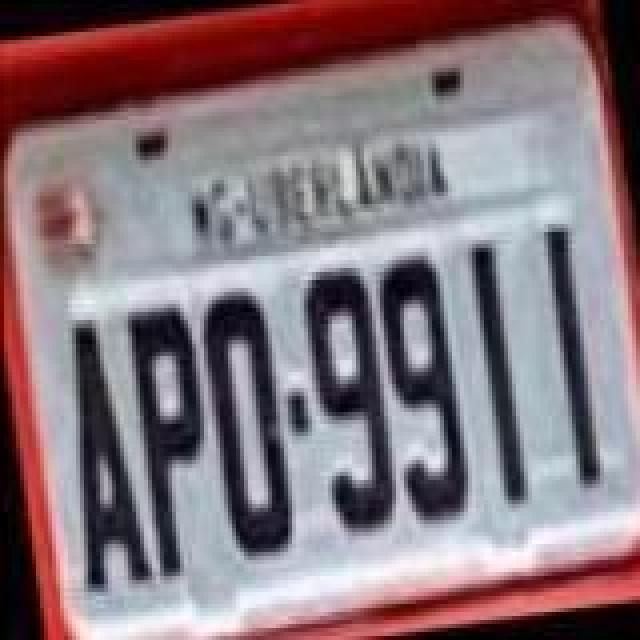1: (468, 238, 532, 514), (538, 220, 602, 492)
9: (294, 262, 402, 538), (372, 250, 476, 530)
A: (48, 310, 152, 594)
O: (194, 288, 302, 564)
P: (120, 298, 224, 578)
